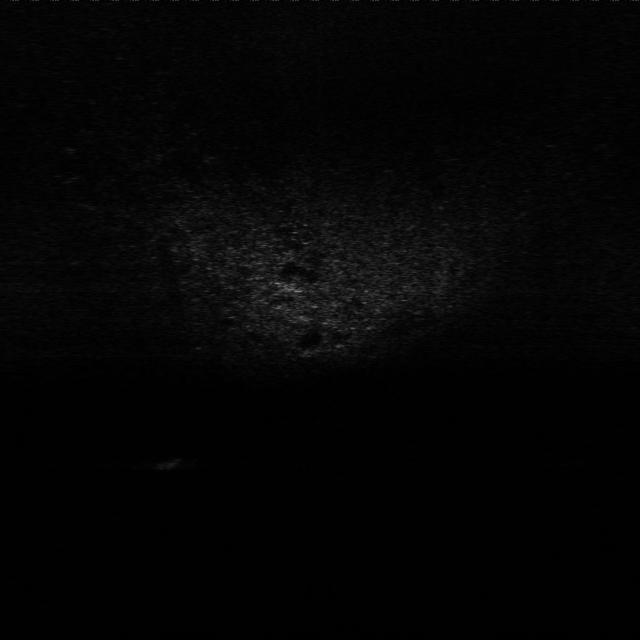cylinder: (154, 451, 188, 473)
